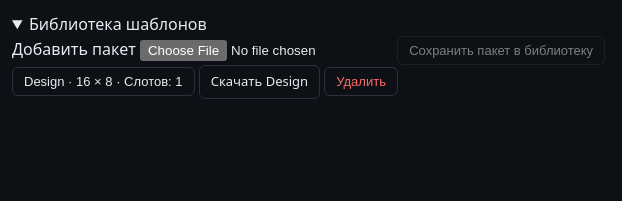
Test: lists stored designs and creates from the chosen record without downloading or reuploading it
Step 1. Click the button "Design · 16 × 8 · Слотов: 1" → (103, 82), box [12,67,194,96]
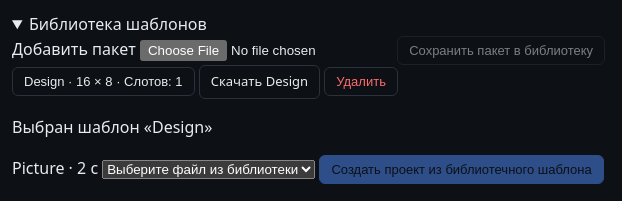
expect the button "Создать проект из библиотечного шаблона" is disabled: met, box [319,154,604,184]
Step 2. Select "Chosen" in the dropdown labelled "Picture · 2 с" → (209, 169), box [102,160,315,178]
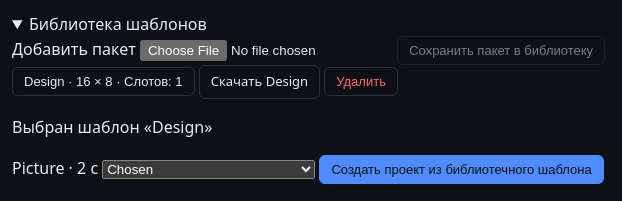
Step 3. Click the button "Создать проект из библиотечного шаблона" → (462, 169), box [319,154,604,184]
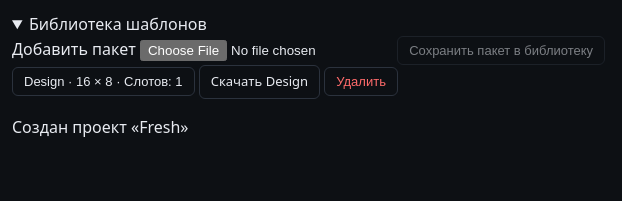
expect the text "Создан проект «Fresh»" is shown: met, box [12,116,188,138]
